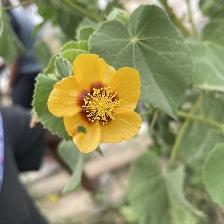indian mallow: (51, 53, 150, 146)
